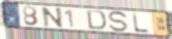1: (65, 9, 75, 28)
8: (23, 6, 40, 27)
D: (86, 9, 108, 31)
L: (132, 11, 151, 34)
N: (41, 7, 65, 29)
S: (107, 10, 130, 33)
